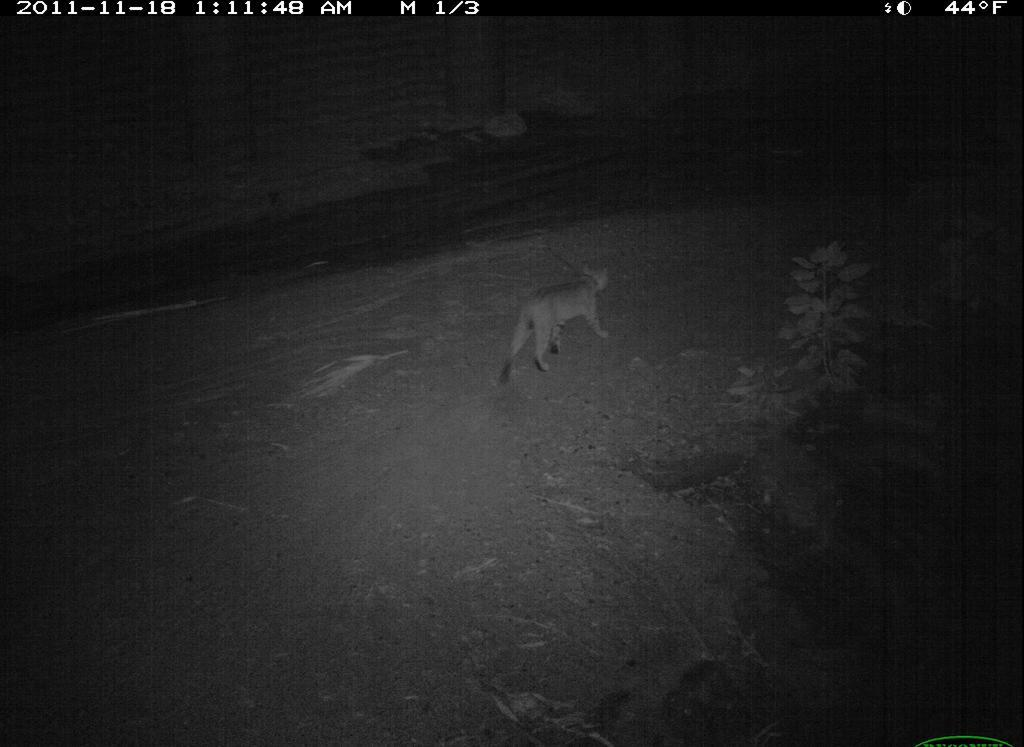bobcat: (496, 262, 619, 391)
